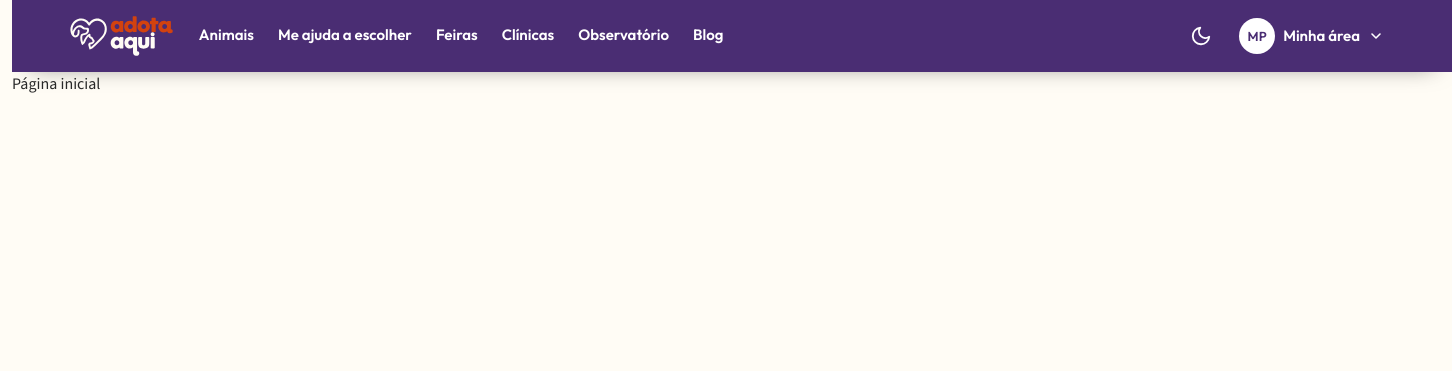
Test case: usuario logado vê as iniciais e, na Minha área, tudo o que é dele
The width and height of the screenshot is (1452, 371).
Expected: the text "MP" is shown, [1239,18,1275,54]
Click the button "MP Minha área" at (1316, 36), box [1235,14,1396,58]
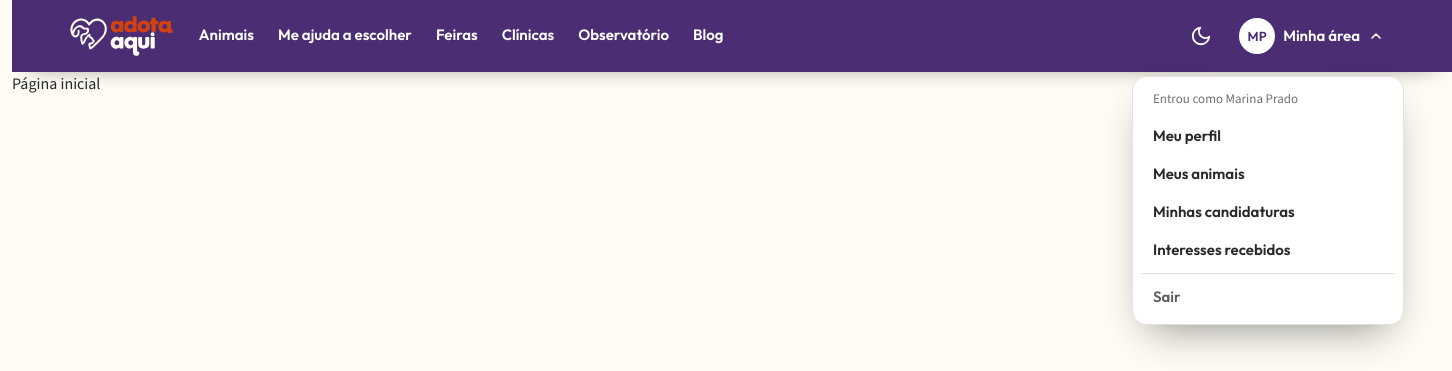
Expected: the text "Entrou como Marina Prado" is shown, [1153,90,1298,107]
